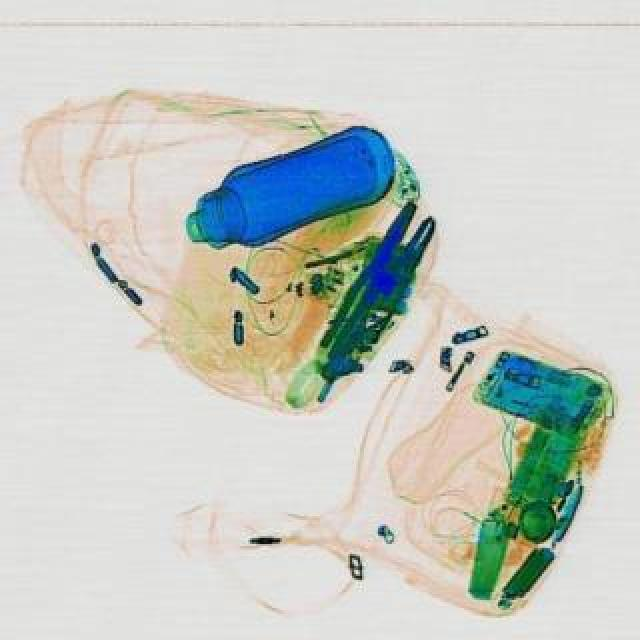wrench: (324, 204, 444, 368)
